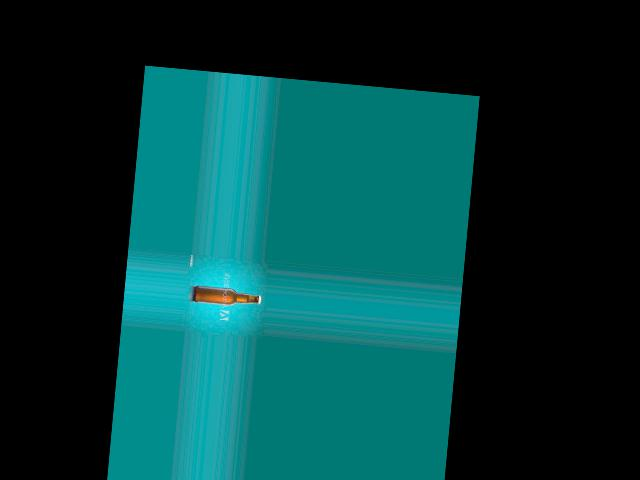beer: (192, 284, 261, 308)
